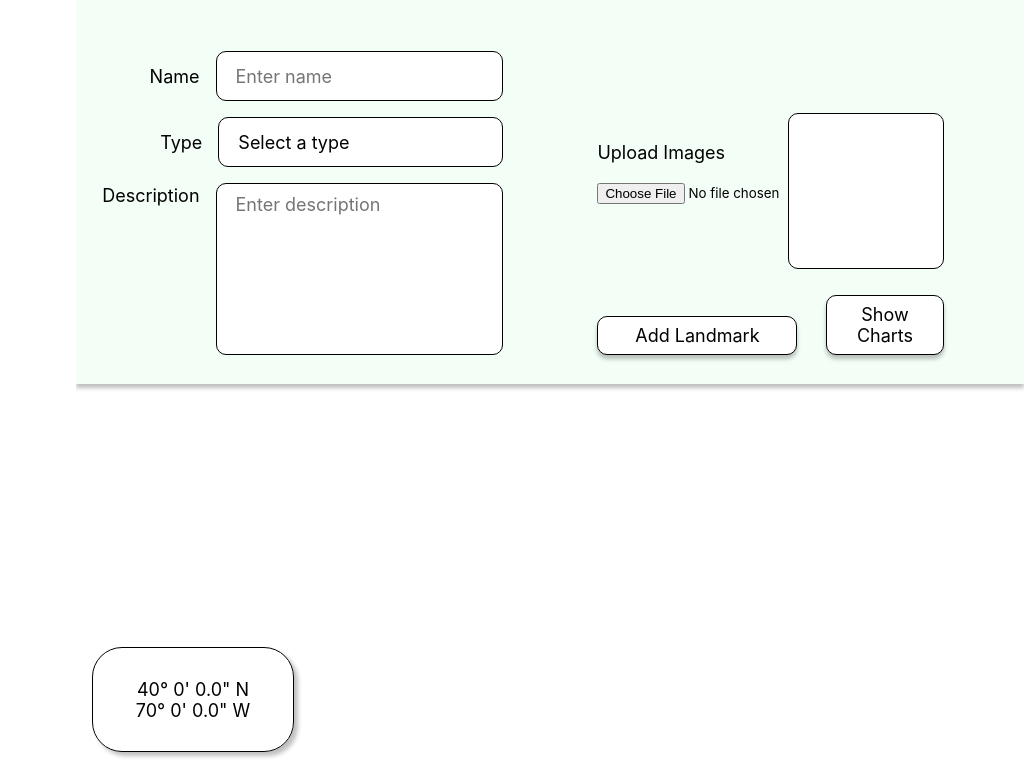
Scenario: AddScreen CRUD operations › should show validation error with partial form completion
The width and height of the screenshot is (1024, 768).
Type "Test Location" into the field with placeholder "Enter name" at (359, 76), box [216,51,503,101]
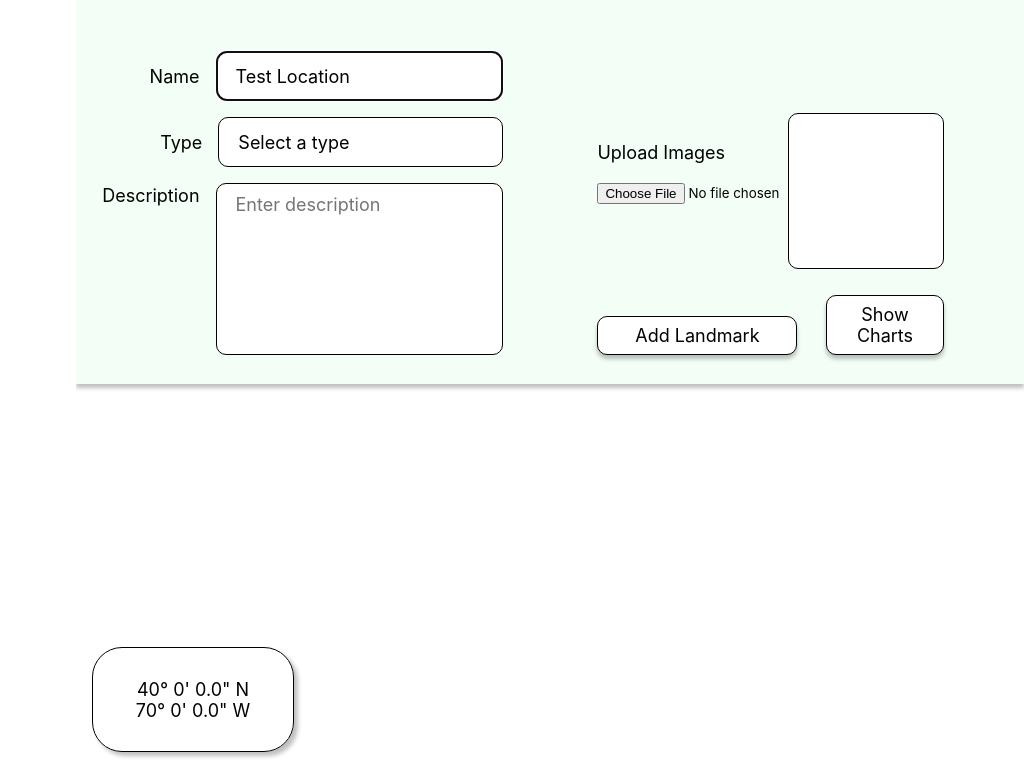
Click the button "Add Landmark" at (697, 336), box [597,316,797,355]
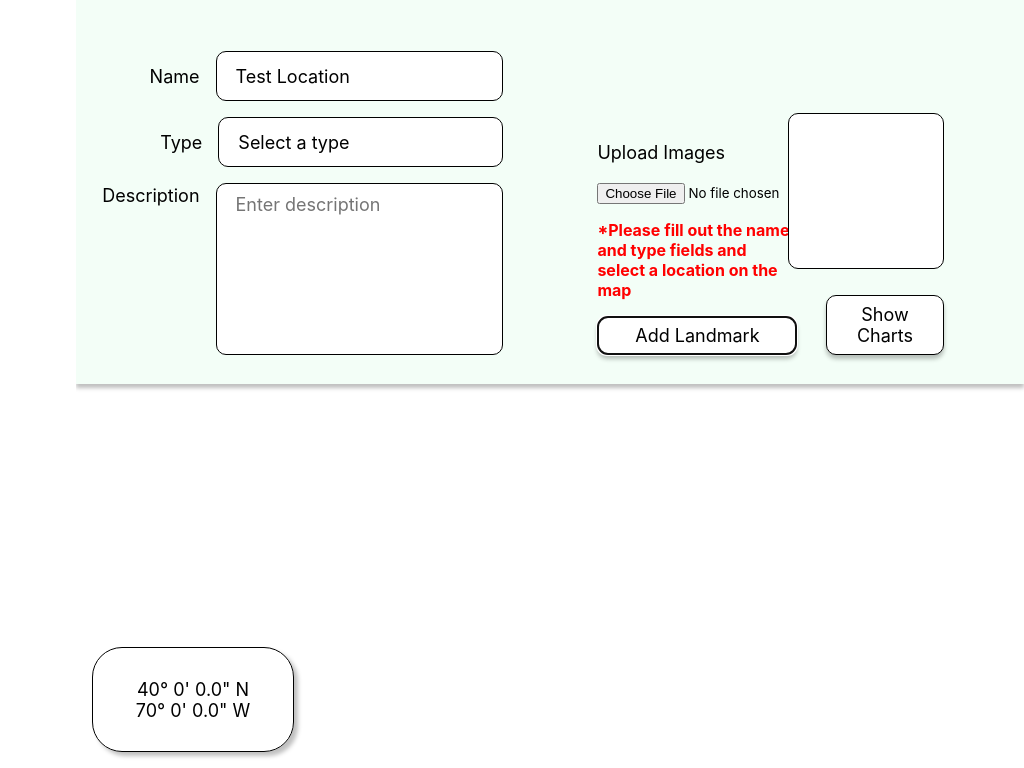
Now the text "*Please fill out the name and type fields and select a location on the map" is shown, box [597,220,797,300]
